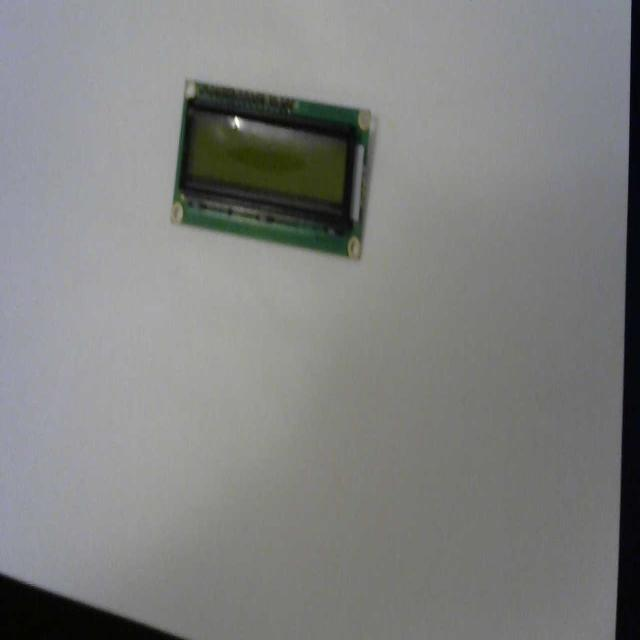lcd: (170, 76, 372, 262)
